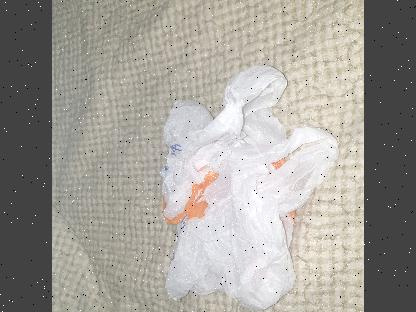Others: (160, 64, 340, 308)
